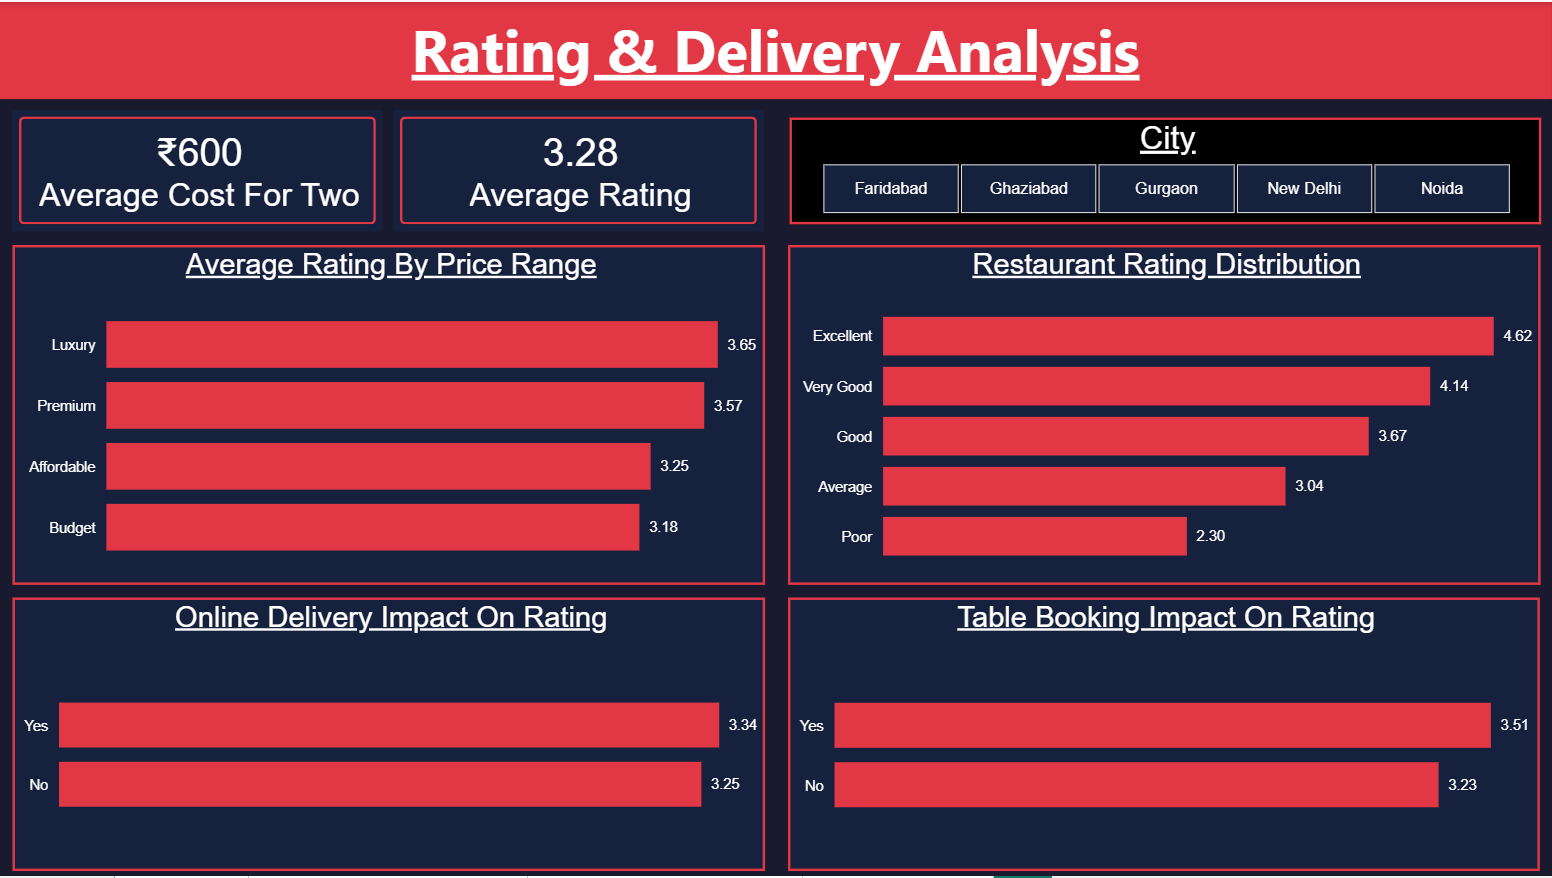

What the dashboard file says about the page in this screenshot:
{"tool":"powerbi","page":{"name":"Rating & Delivery Analysis","canvas":[1280,720],"ordinal":2},"visuals":[{"type":"barChart","title":"Average Rating By Price Range","fields":{"Category":["zomato_delhi_cleaned.price_label"],"Y":["Measure.Avg Rating"]},"box":[10.6,200,620,280.1],"z":0},{"type":"clusteredBarChart","title":"Online Delivery Impact On Rating","fields":{"Category":["zomato_delhi_cleaned.has_online_delivery"],"Y":["Measure.Avg Rating"]},"box":[10.6,490.6,620,225],"z":1000},{"type":"barChart","title":"Restaurant Rating Distribution","fields":{"Y":["Measure.Avg Rating"],"Category":["zomato_delhi_cleaned.rating_text"]},"box":[649.6,199.9,620,280.1],"z":2000},{"type":"barChart","title":"Table Booking Impact On Rating","fields":{"Category":["zomato_delhi_cleaned.has_table_booking"],"Y":["Measure.Avg Rating"]},"box":[649.6,490.6,619.3,225.6],"z":3000},{"type":"cardVisual","fields":{"Data":["Measure.Avg Rating"]},"box":[325.6,89.3,304.4,99.9],"z":4000},{"type":"cardVisual","fields":{"Data":["Measure.Avg Cost For Two"]},"box":[10.6,89.3,304.4,99.9],"z":5000},{"type":"slicer","title":"City","fields":{"Values":["zomato_delhi_cleaned.city"]},"box":[651.1,95.4,619.3,87.8],"z":6000},{"type":"textbox","box":[0,0,1279.5,80.3],"z":7000}]}

Visuals, with their boxes in screenshot pixels (x1, y1, x2, y2), scaled from the page's 1280x720 canvas onto the 1552x878 screenshot:
"Average Rating By Price Range" barChart: region(13, 244, 765, 585)
"Online Delivery Impact On Rating" clusteredBarChart: region(13, 598, 765, 873)
"Restaurant Rating Distribution" barChart: region(788, 244, 1539, 585)
"Table Booking Impact On Rating" barChart: region(788, 598, 1539, 873)
cardVisual - Measure.Avg Rating: region(395, 109, 764, 231)
cardVisual - Measure.Avg Cost For Two: region(13, 109, 382, 231)
"City" slicer: region(789, 116, 1540, 223)
textbox: region(0, 0, 1551, 98)
